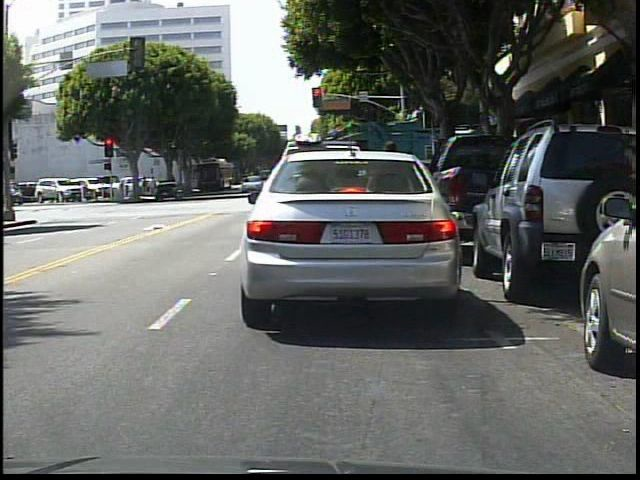person: (373, 140, 411, 265)
